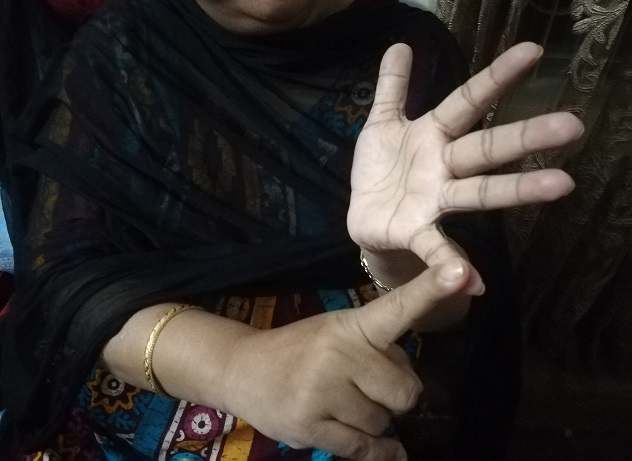i: (339, 40, 581, 403)
